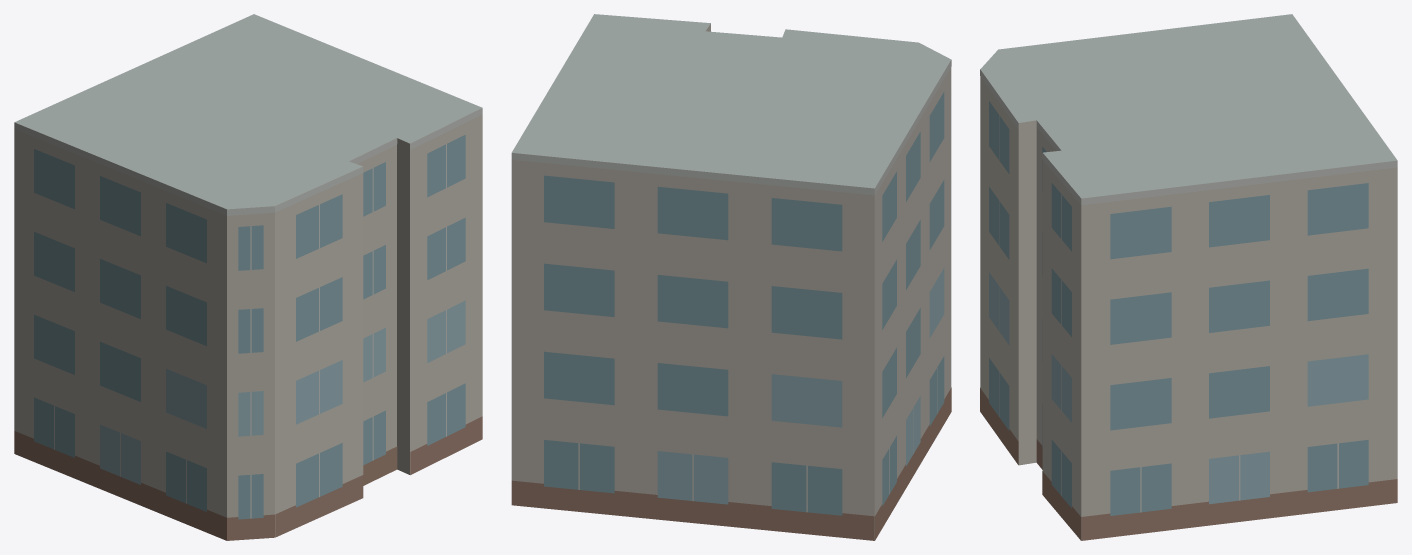
File: survey-upis-32978094.glb
3 views of the same model, side by side, from view 1: azimuth 30°, elevation 25°; view 2: azimuth 150°, elevation 25°; view 3: azimuth 270°, elevation 25° (orthographic). The views are drawn at different scales.
Parts seen in each view (by area): view 1: survey-upis-32978094.tmp; view 2: survey-upis-32978094.tmp; view 3: survey-upis-32978094.tmp.
Boxes of the visible parts, x1,y1,x2,y2 form: survey-upis-32978094.tmp: [14, 14, 482, 540]; survey-upis-32978094.tmp: [511, 14, 951, 540]; survey-upis-32978094.tmp: [980, 14, 1397, 540].
Size of the model in its own units: 14.35 by 12.4 by 13.71.
